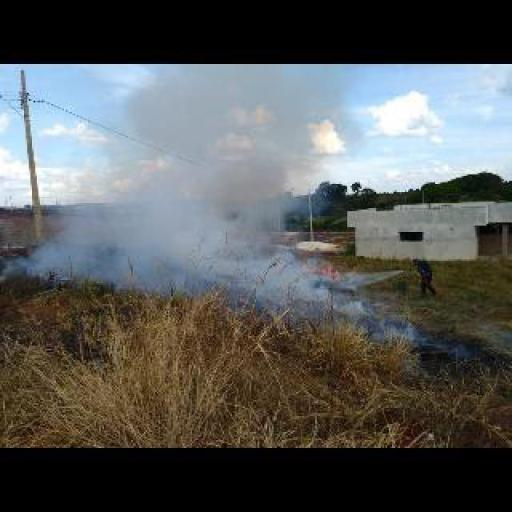smoke: (31, 74, 322, 313), (322, 291, 422, 349), (307, 256, 349, 275)
